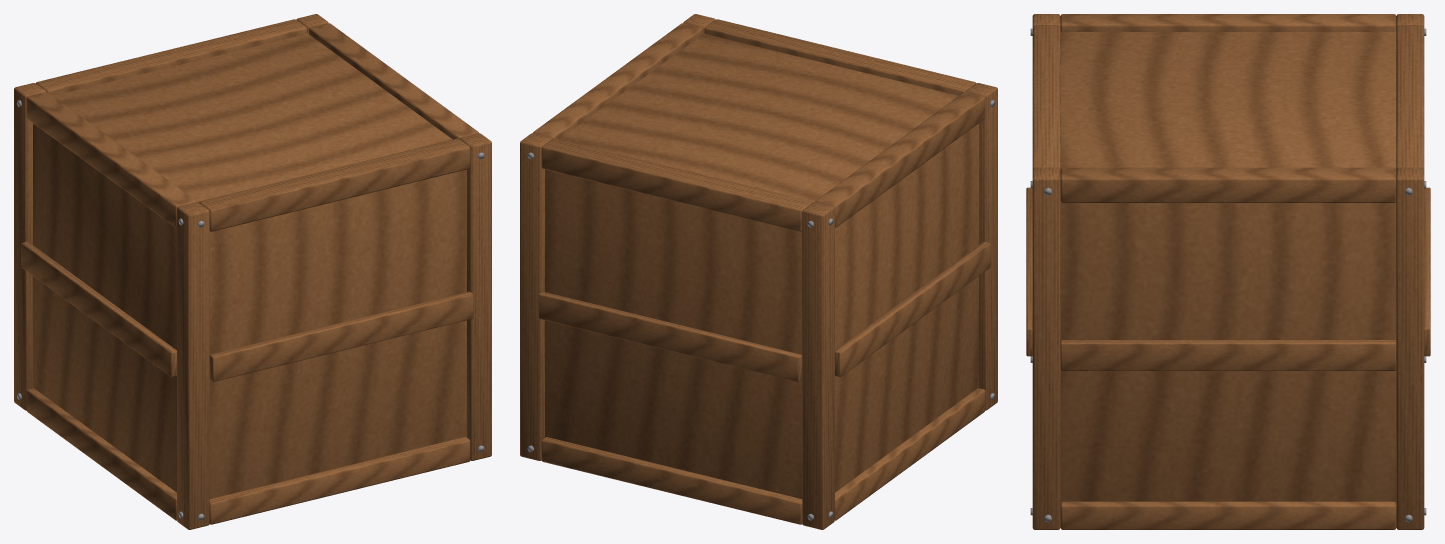
Rendered from Crate.glb.
3 renders of one model, left to right at view 1: azimuth 30°, elevation 25°; view 2: azimuth 150°, elevation 25°; view 3: azimuth 270°, elevation 25°, orthographic. The views are drawn at different scales.
Parts seen in each view (by area): view 1: Crate; view 2: Crate; view 3: Crate.
Part boxes in pixels (<box>): Crate: <box>14,14,491,529</box>; Crate: <box>520,14,997,529</box>; Crate: <box>1026,14,1430,529</box>.
Size of the model in its own units: 2.6 by 2.5 by 2.6.
Materials: 1 (1 with a texture image).
